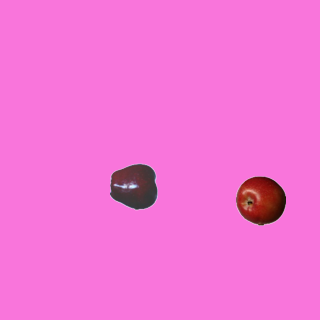Apple Braeburn: (235, 175, 285, 225)
Apple Red Delicious: (109, 161, 159, 211)
